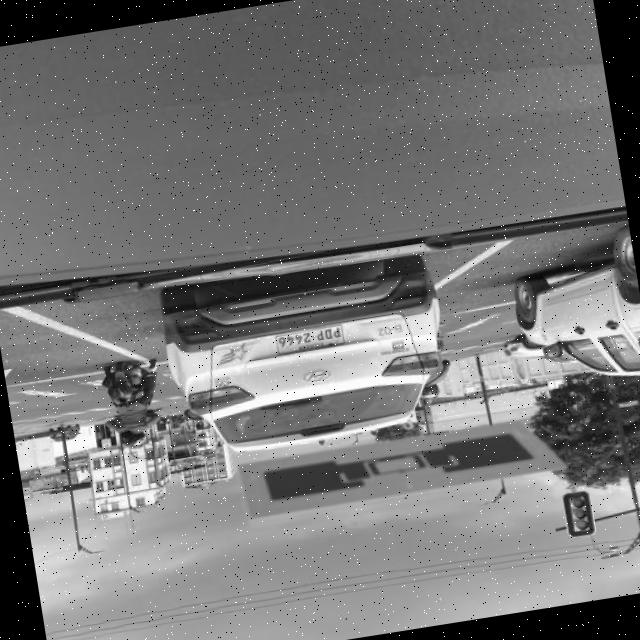Placa: (276, 326, 345, 354)
